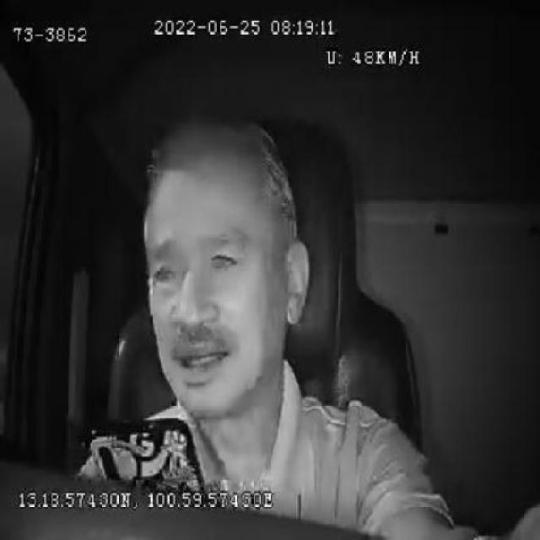phone: (88, 416, 206, 491)
